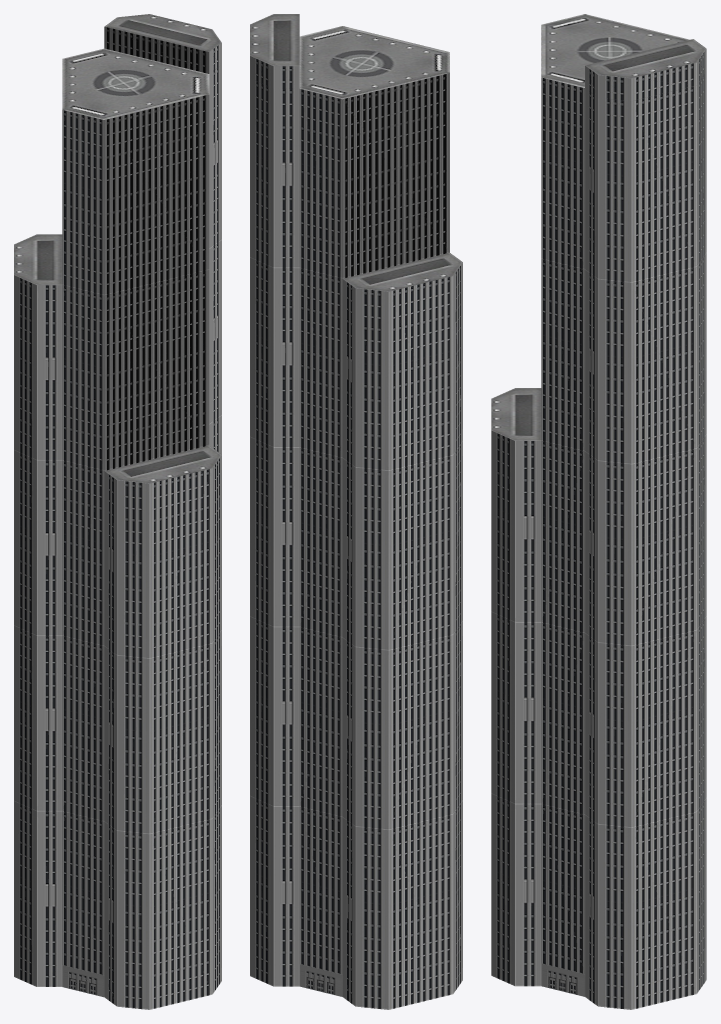
File: skyscrap17.glb
3 views of the same model, side by side, from view 1: azimuth 30°, elevation 25°; view 2: azimuth 150°, elevation 25°; view 3: azimuth 270°, elevation 25° (orthographic). The views are drawn at different scales.
Visible parts, largest first — view 1: sk17; view 2: sk17; view 3: sk17.
Boxes of the visible parts, bbox=[...] form: sk17: bbox=[14, 14, 221, 1009]; sk17: bbox=[250, 14, 462, 1009]; sk17: bbox=[491, 14, 706, 1009].
Size of the model in its own units: 10.72 by 46.42 by 9.73.
Materials: 1 (1 with a texture image).
